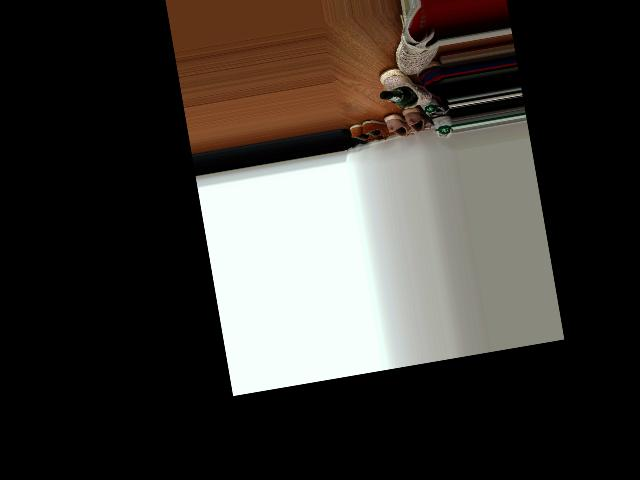beer: (378, 85, 417, 108)
